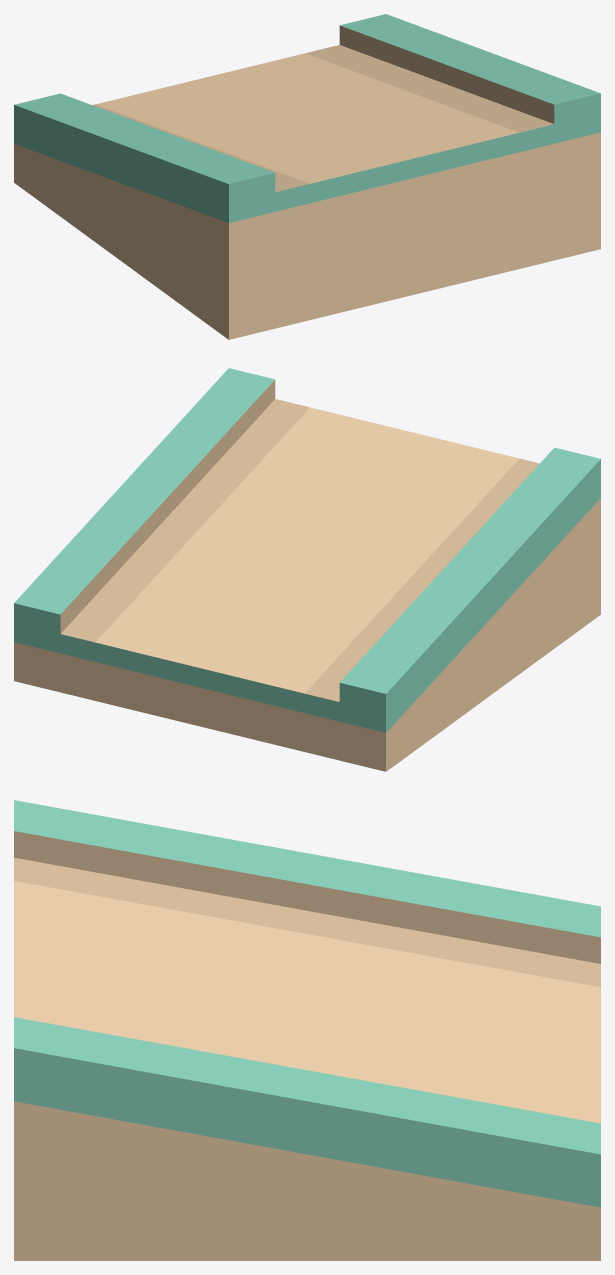
The model's file is tile_straightHill.glb.
The picture shows the model from 3 angles, top to bottom: view 1: azimuth 30°, elevation 25°; view 2: azimuth 150°, elevation 25°; view 3: azimuth 270°, elevation 25°; orthographic projection. The views are drawn at different scales.
Visible parts, largest first — view 1: tile_straightHill; view 2: tile_straightHill; view 3: tile_straightHill.
Part boxes in pixels (x1,y1,x2,y2): tile_straightHill: (14, 14, 600, 339); tile_straightHill: (14, 368, 600, 771); tile_straightHill: (14, 800, 600, 1260).
Size of the model in its own units: 1 by 0.4 by 1.
